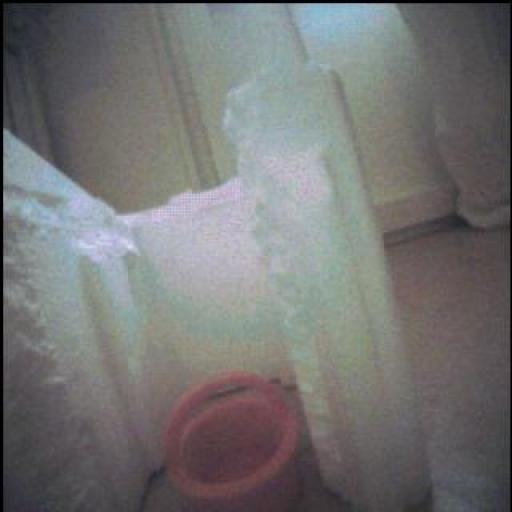Basket: (168, 372, 301, 512)
